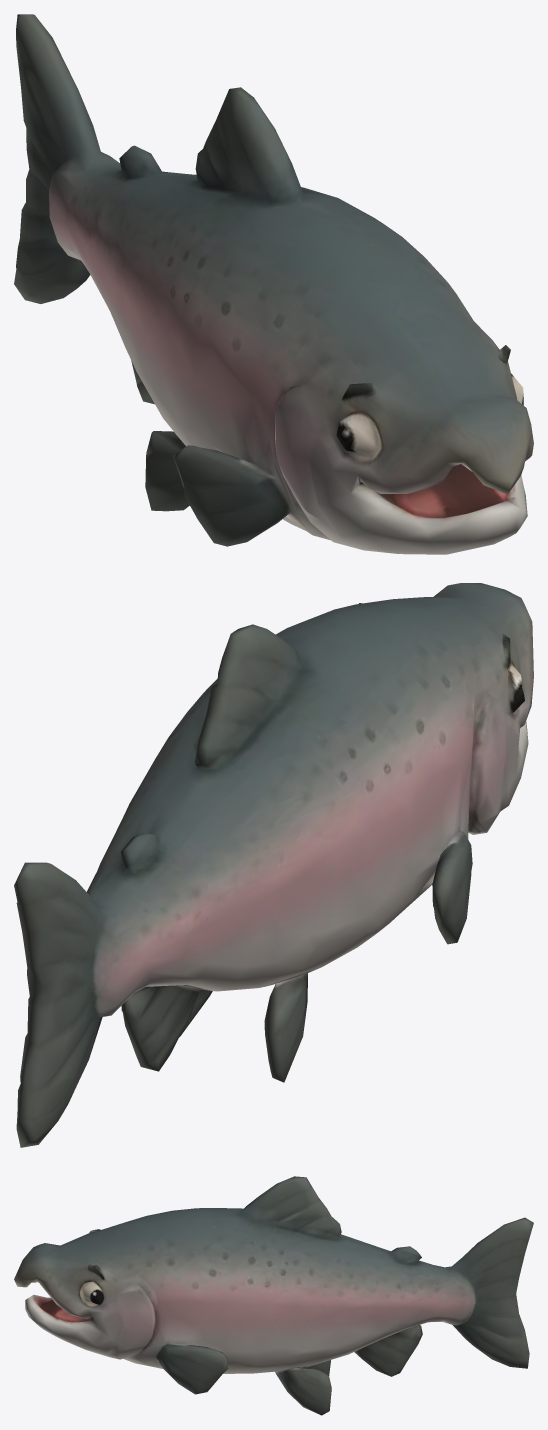
File: fish-salmon.glb
3 renders of one model, top to bottom at view 1: azimuth 30°, elevation 25°; view 2: azimuth 150°, elevation 25°; view 3: azimuth 270°, elevation 25°, orthographic. The views are drawn at different scales.
Visible parts, largest first — view 1: tripo_node_c12e3859-4a93-41dc-b2a6-dce1805f9ec5; view 2: tripo_node_c12e3859-4a93-41dc-b2a6-dce1805f9ec5; view 3: tripo_node_c12e3859-4a93-41dc-b2a6-dce1805f9ec5.
Part boxes in pixels (x1=…): tripo_node_c12e3859-4a93-41dc-b2a6-dce1805f9ec5: x1=14, y1=14, x2=533, y2=554; tripo_node_c12e3859-4a93-41dc-b2a6-dce1805f9ec5: x1=14, y1=583, x2=533, y2=1147; tripo_node_c12e3859-4a93-41dc-b2a6-dce1805f9ec5: x1=14, y1=1176, x2=533, y2=1415.
Bounding box in the file's own units: 0.3224 × 0.4706 × 1.
Materials: 1 (1 with a texture image).
